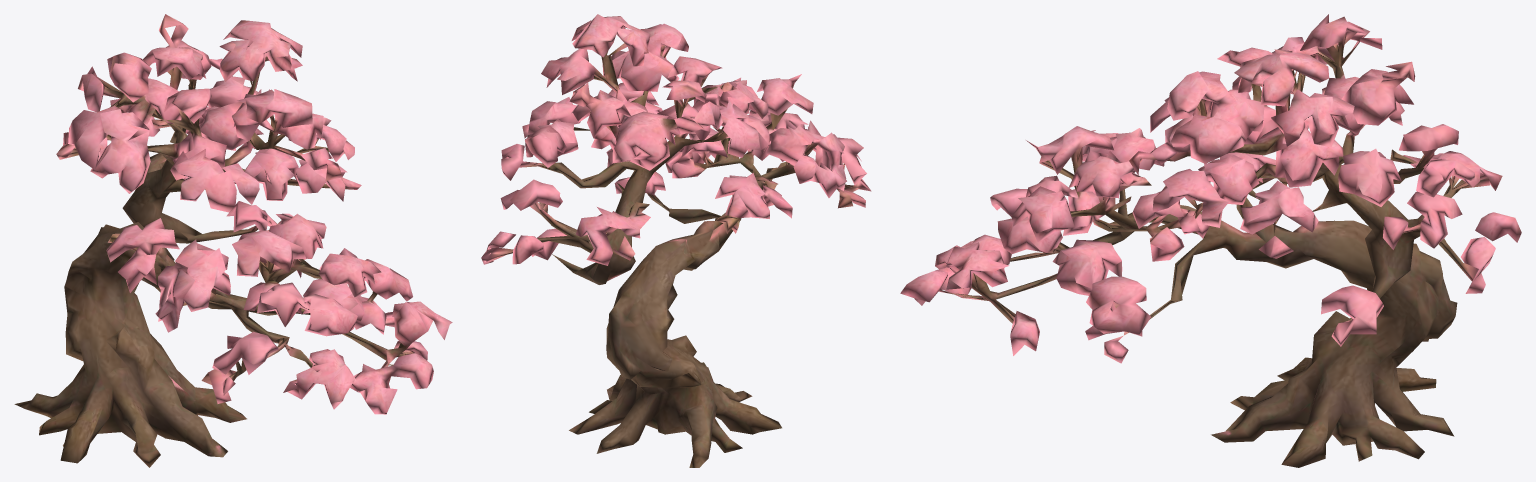
Rendered from prop_anh_dao.bfac797128.glb.
3 renders of one model, left to right at view 1: azimuth 30°, elevation 25°; view 2: azimuth 150°, elevation 25°; view 3: azimuth 270°, elevation 25°, orthographic. The views are drawn at different scales.
Parts seen in each view (by area): view 1: prop_anh_dao; view 2: prop_anh_dao; view 3: prop_anh_dao.
Part boxes in pixels (x1,y1,x2,y2): prop_anh_dao: [14, 14, 452, 467]; prop_anh_dao: [481, 14, 871, 467]; prop_anh_dao: [900, 14, 1521, 467].
Size of what is drawn, in the model's own units: 5.31 by 7 by 9.32.
1 material, 1 textured.
